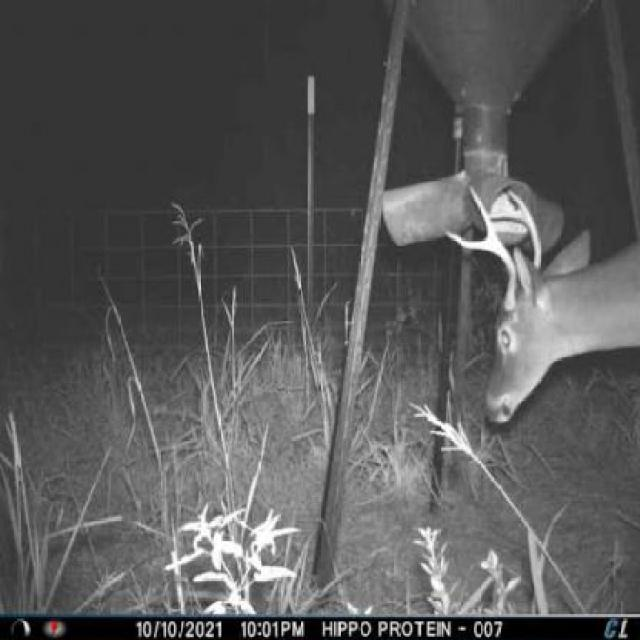Deer: (438, 178, 638, 434)
